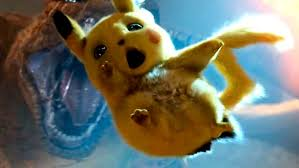pikachu: (51, 1, 284, 156)
